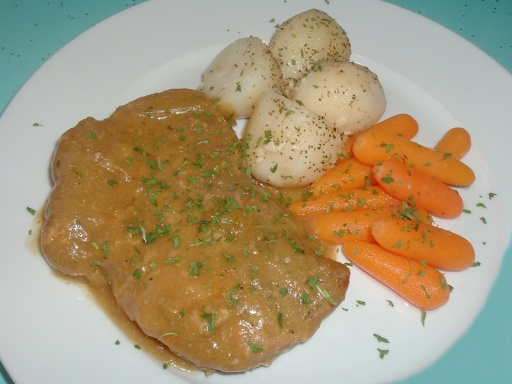background: (31, 4, 380, 226)
